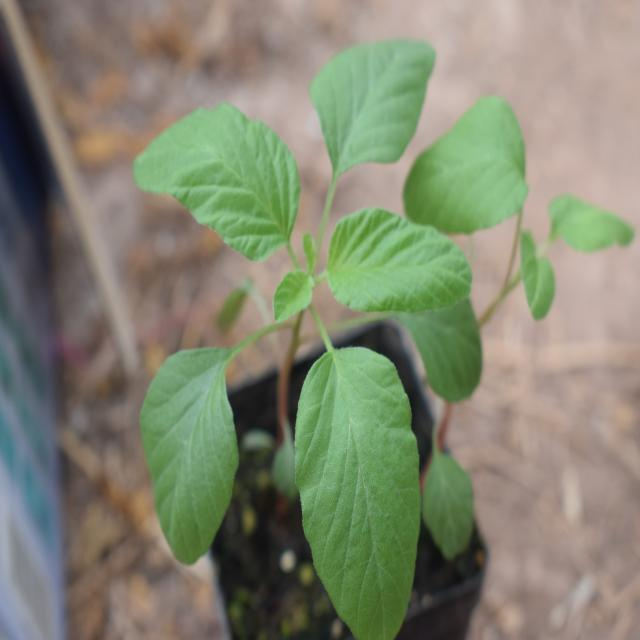pigweed: (126, 36, 456, 613)
